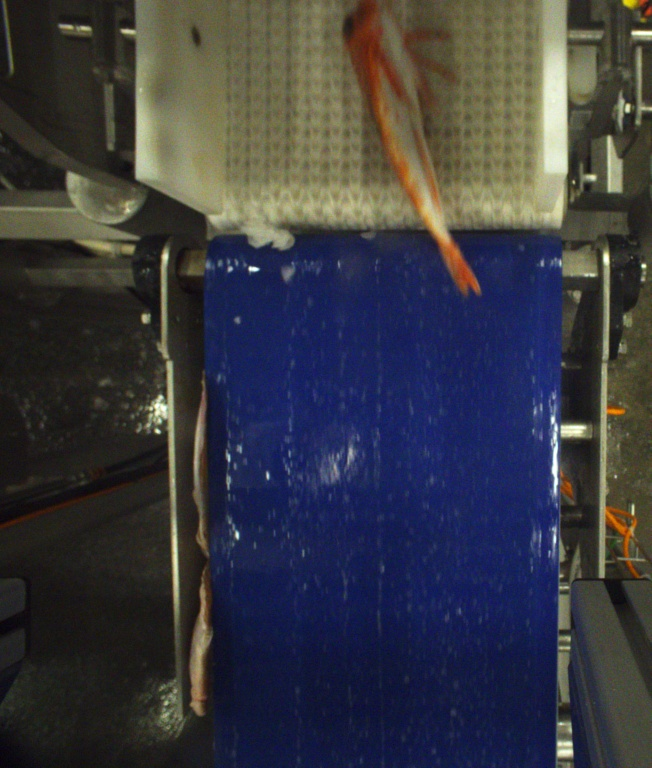GUU: (340, 0, 481, 296)
